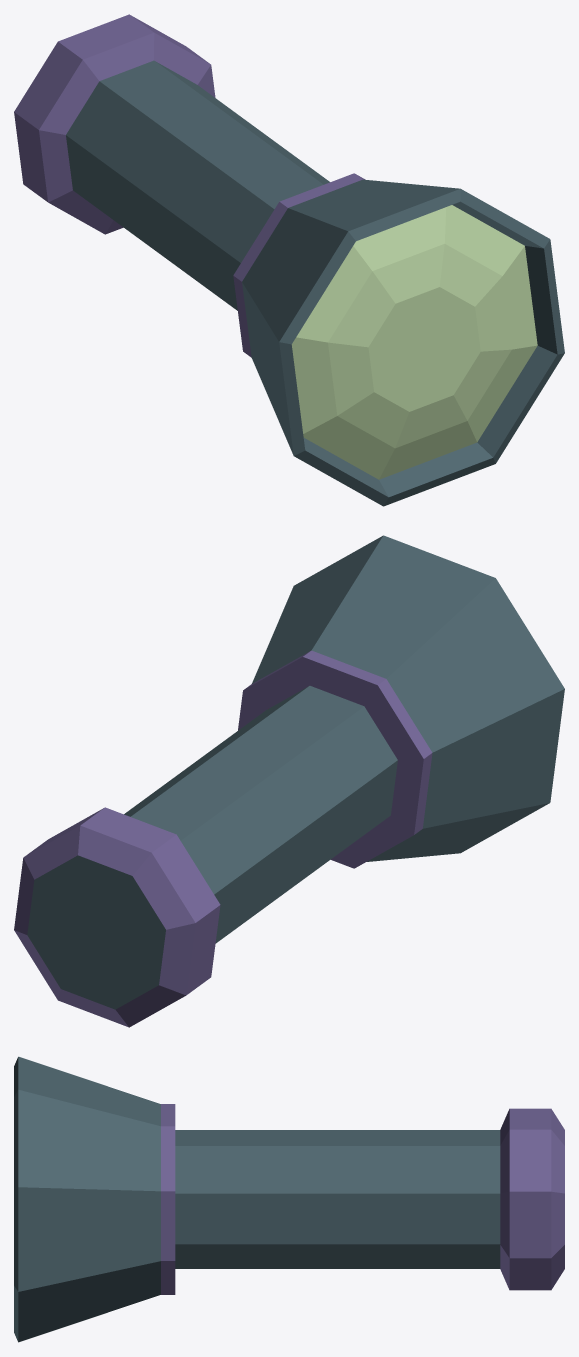
The model's file is flashlight.fbx.
3 views of the same model, one above another, from view 1: azimuth 30°, elevation 25°; view 2: azimuth 150°, elevation 25°; view 3: azimuth 270°, elevation 25° (orthographic). The views are drawn at different scales.
Visible parts, largest first — view 1: Flashlight; view 2: Flashlight; view 3: Flashlight.
Part boxes in pixels (x1,y1,x2,y2): Flashlight: (14,14,564,506); Flashlight: (14,535,564,1027); Flashlight: (14,1056,564,1342).
Bounding box in the file's own units: 39.76 × 39.76 × 79.02.
